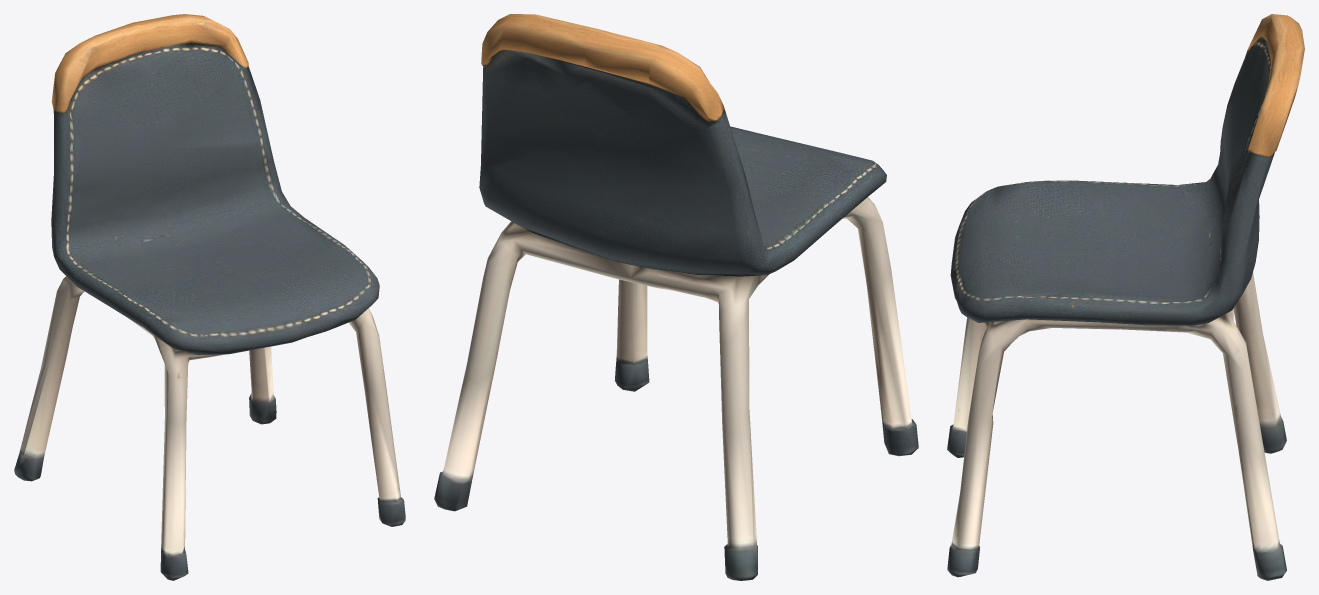
The model's file is chair.low.glb.
3 renders of one model, left to right at view 1: azimuth 30°, elevation 25°; view 2: azimuth 150°, elevation 25°; view 3: azimuth 270°, elevation 25°, orthographic. The views are drawn at different scales.
Visible parts, largest first — view 1: tripo_node_aca1ffa9-5374-4a42-8209-2fbd5167bead; view 2: tripo_node_aca1ffa9-5374-4a42-8209-2fbd5167bead; view 3: tripo_node_aca1ffa9-5374-4a42-8209-2fbd5167bead.
Boxes of the visible parts, box(x1,y1,x2,y2) form: tripo_node_aca1ffa9-5374-4a42-8209-2fbd5167bead: box(14, 14, 405, 580); tripo_node_aca1ffa9-5374-4a42-8209-2fbd5167bead: box(434, 14, 918, 580); tripo_node_aca1ffa9-5374-4a42-8209-2fbd5167bead: box(947, 14, 1304, 580).
Size of the model in its own units: 0.4119 by 0.6384 by 0.4371.
Materials: 1 (1 with a texture image).
